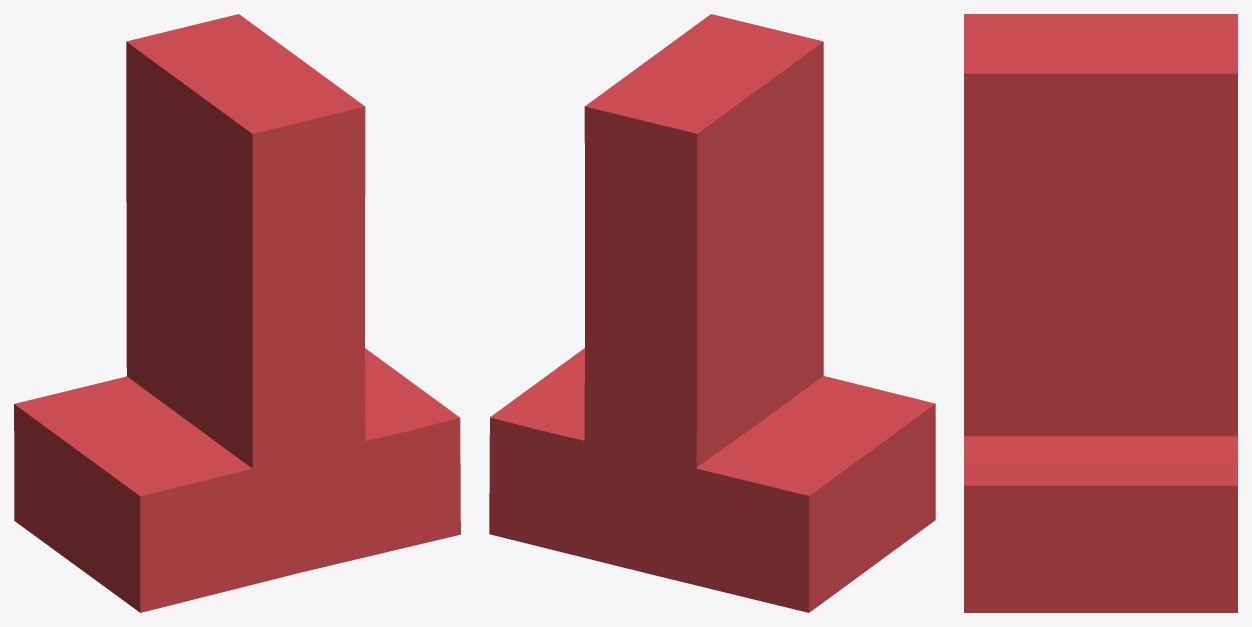
The picture shows the model from 3 angles, left to right: view 1: azimuth 30°, elevation 25°; view 2: azimuth 150°, elevation 25°; view 3: azimuth 270°, elevation 25°; orthographic projection. The views are drawn at different scales.
Parts seen in each view (by area): view 1: base5.001; view 2: base5.001; view 3: base5.001.
Part boxes in pixels (box(x1,y1,x2,y2)): base5.001: box(14, 14, 460, 612); base5.001: box(489, 14, 935, 612); base5.001: box(964, 14, 1237, 612).
Bounding box in the file's own units: 2.24 × 3.03 × 1.53.
